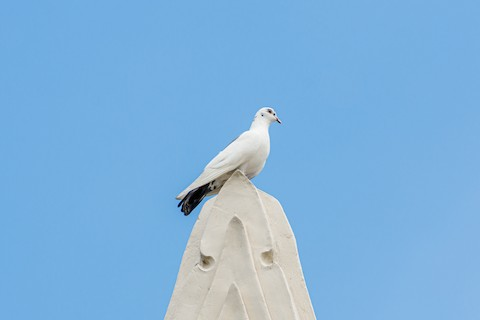pigeon: (173, 104, 284, 216)
